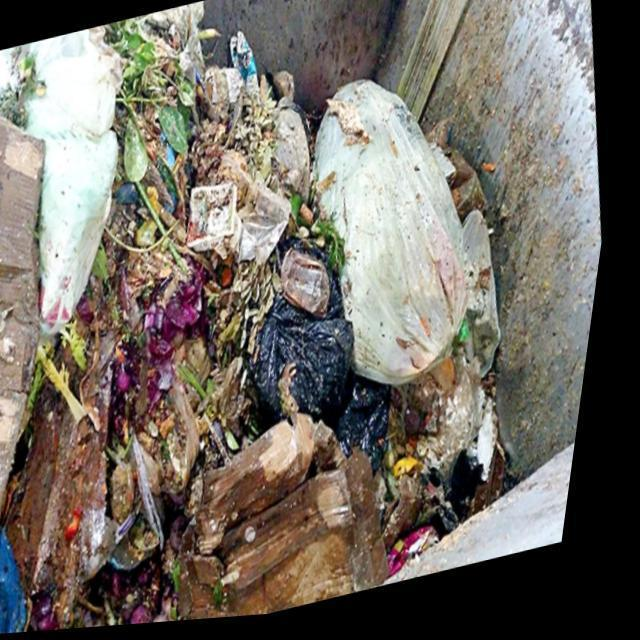Disposable: (288, 252, 339, 322), (193, 185, 243, 254)
Garbage: (0, 4, 519, 636)
Plastic_Bag: (319, 86, 475, 391), (25, 30, 124, 338), (262, 280, 363, 425), (349, 385, 401, 478), (1, 530, 43, 636), (279, 111, 315, 206)
Plastic_wraper: (232, 34, 262, 101)
